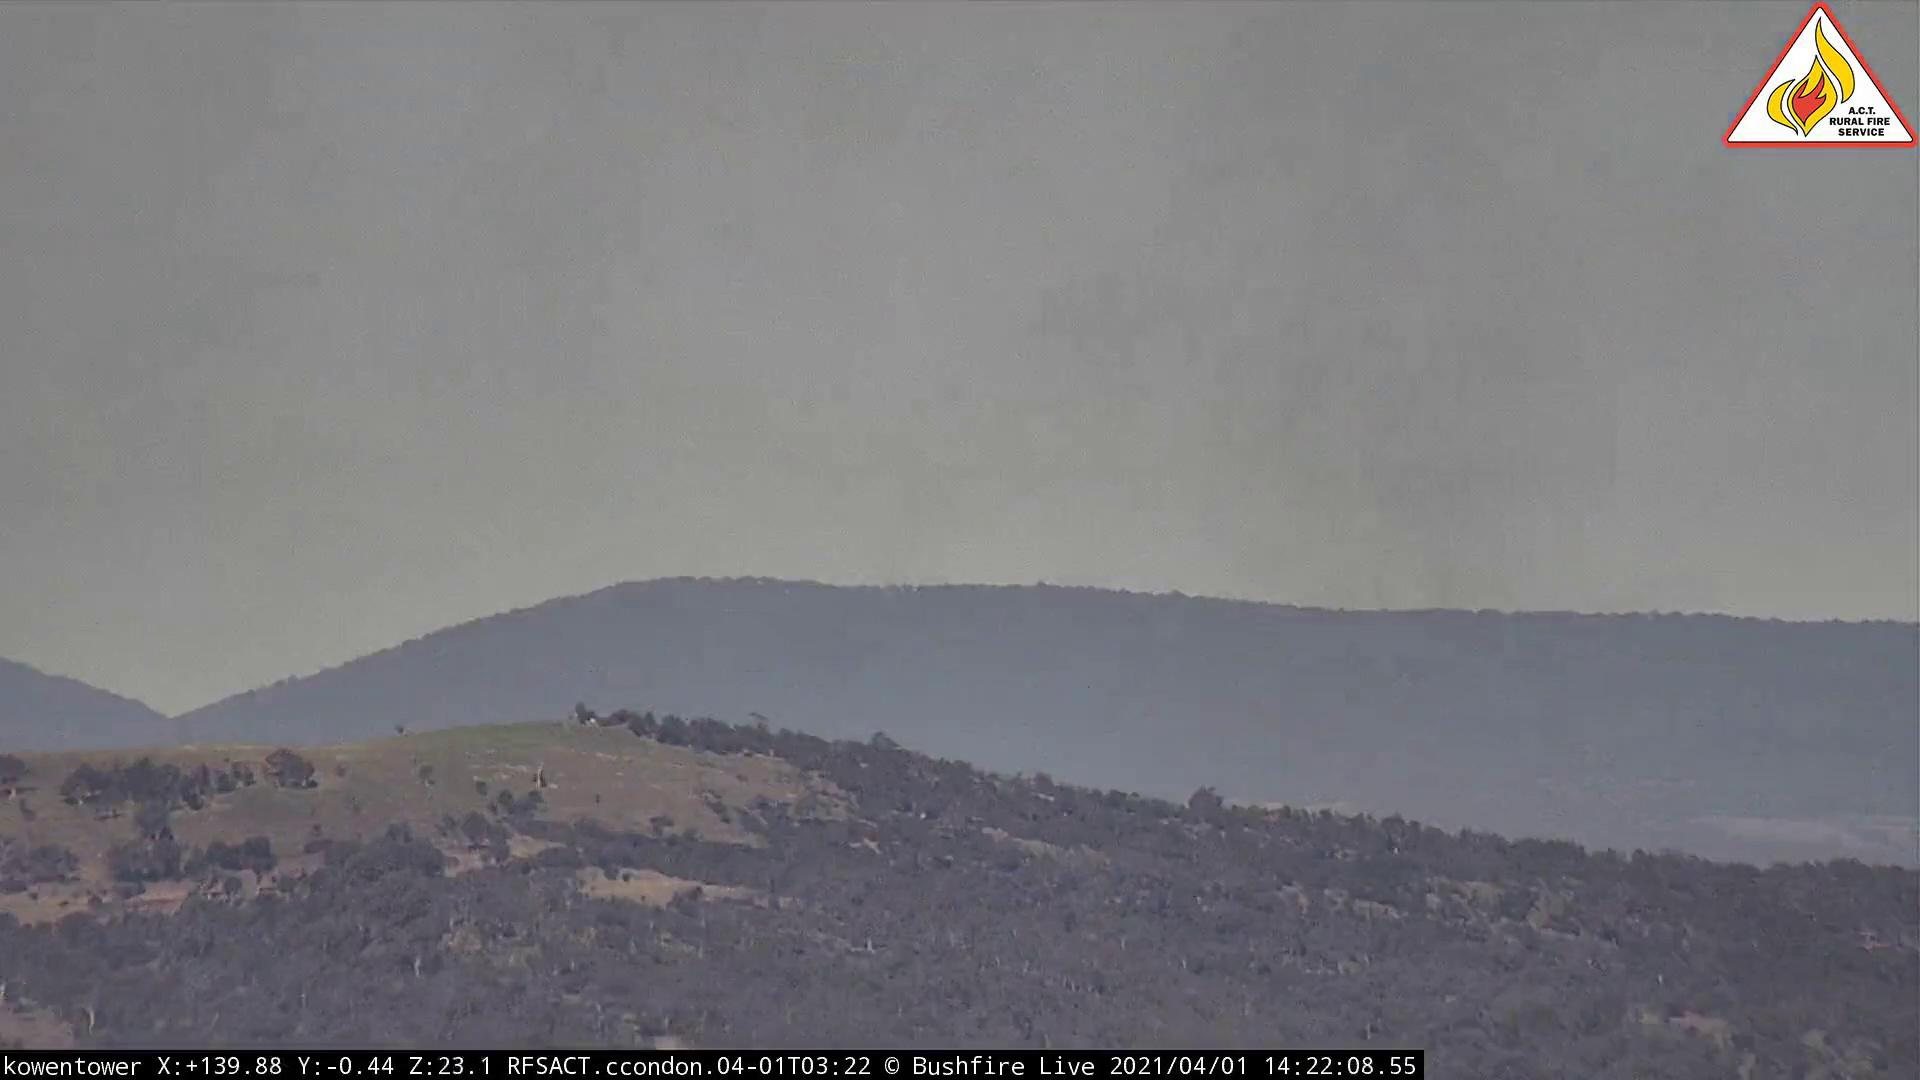instance_salient_object: (1035, 29, 1716, 732)
